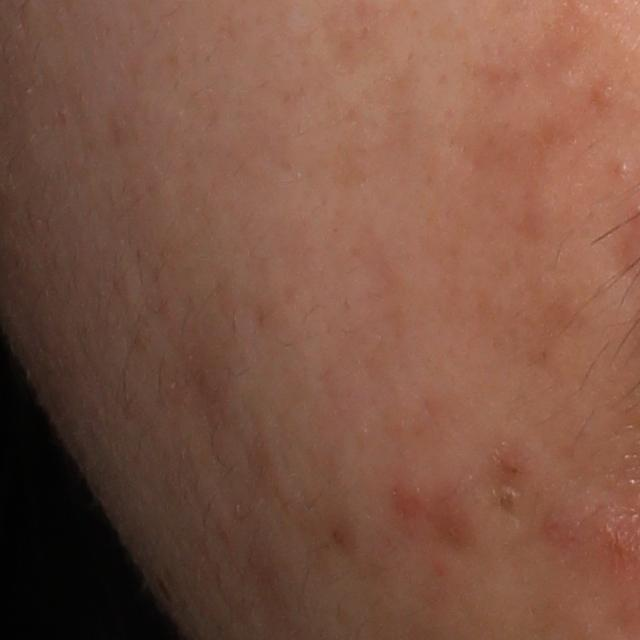comedo: (611, 160, 630, 181)
